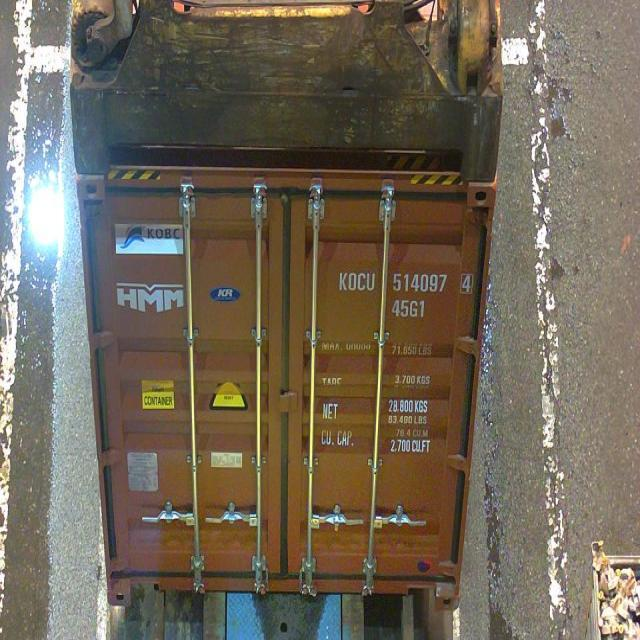ISO: (391, 297, 428, 318)
container_number: (336, 272, 466, 295)
